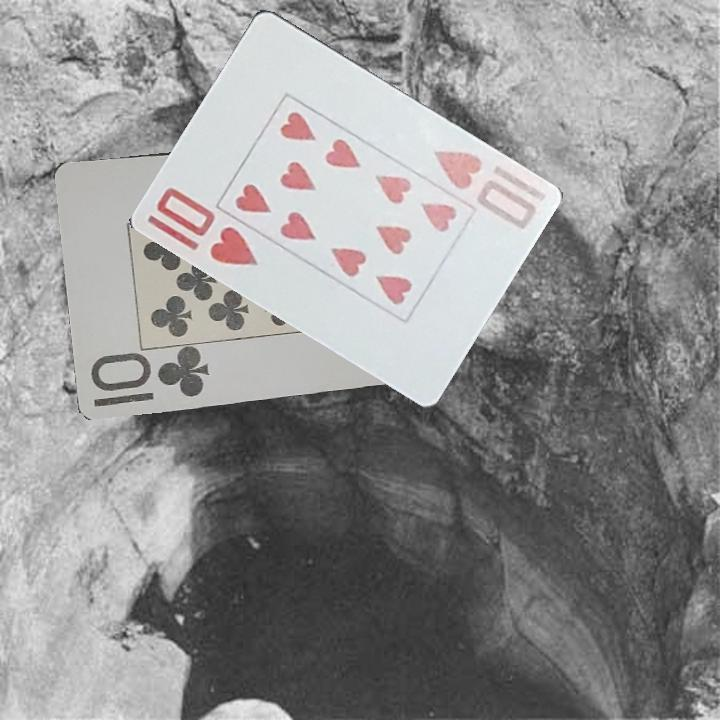Tc: (87, 345, 213, 410)
Th: (428, 146, 549, 233), (152, 183, 261, 270)
